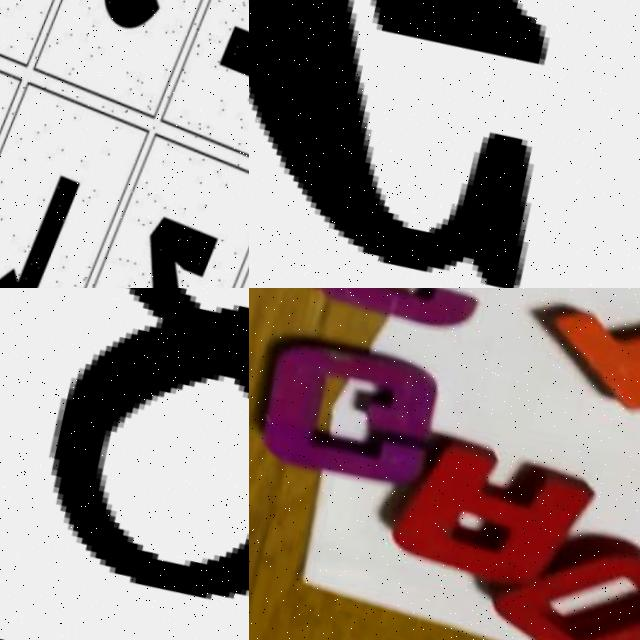1: (0, 155, 91, 288)
2: (73, 201, 230, 288)
6: (73, 0, 227, 55)
8: (0, 288, 249, 640)
A: (356, 424, 594, 605)
G: (249, 0, 640, 288), (249, 325, 445, 503)
I: (523, 288, 640, 460)
O: (475, 518, 640, 640)
S: (292, 288, 523, 349)
